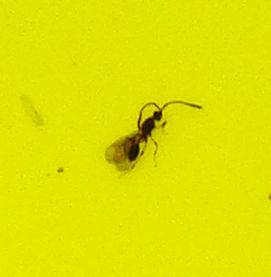Hymenoptera: (100, 100, 171, 177)
